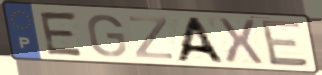A: (172, 16, 228, 65)
E: (258, 18, 312, 68), (37, 10, 87, 58)
G: (85, 13, 130, 59)
X: (215, 16, 266, 66)
Z: (127, 14, 175, 61)
